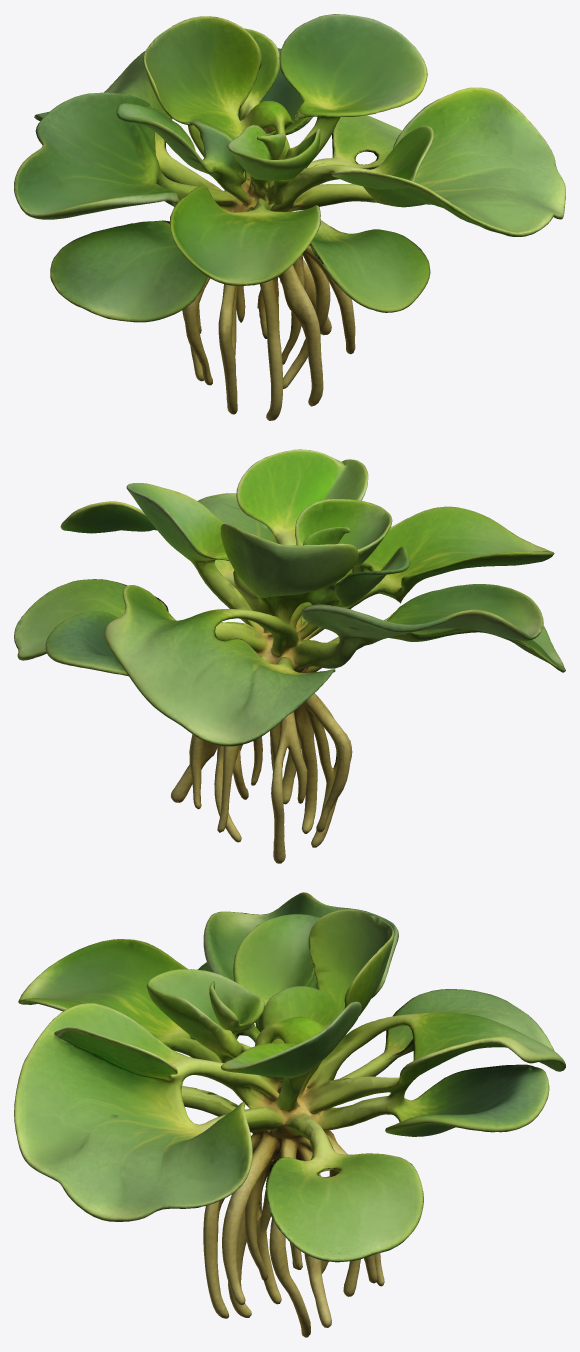
The picture shows the model from 3 angles, top to bottom: view 1: azimuth 30°, elevation 25°; view 2: azimuth 150°, elevation 25°; view 3: azimuth 270°, elevation 25°; orthographic projection. The views are drawn at different scales.
Visible parts, largest first — view 1: world; view 2: world; view 3: world.
Boxes of the visible parts, x1=… form: world: x1=14, y1=14, x2=565, y2=420; world: x1=14, y1=449, x2=565, y2=863; world: x1=14, y1=892, x2=565, y2=1337.
Bounding box in the file's own units: 0.1798 × 0.1234 × 0.1632.
1 material, 1 textured.
